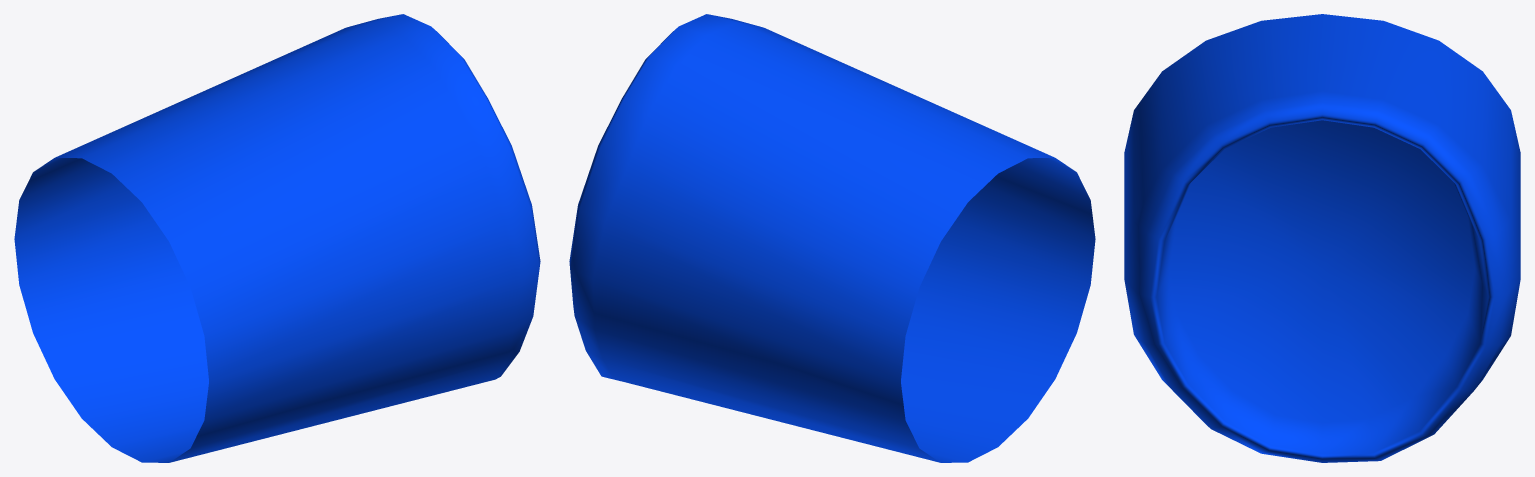
Rendered from Right_shoulder-1.obj.
3 views of the same model, side by side, from view 1: azimuth 30°, elevation 25°; view 2: azimuth 150°, elevation 25°; view 3: azimuth 270°, elevation 25° (orthographic).
Parts seen in each view (by area): view 1: polySurface236 polySurface142; view 2: polySurface236 polySurface142; view 3: polySurface236 polySurface142.
Part boxes in pixels (box(x1,y1,x2,y2)): polySurface236 polySurface142: box(14, 14, 540, 462); polySurface236 polySurface142: box(569, 14, 1095, 462); polySurface236 polySurface142: box(1124, 14, 1520, 462).
Size of the model in its own units: 2.21 by 2.09 by 2.12.
